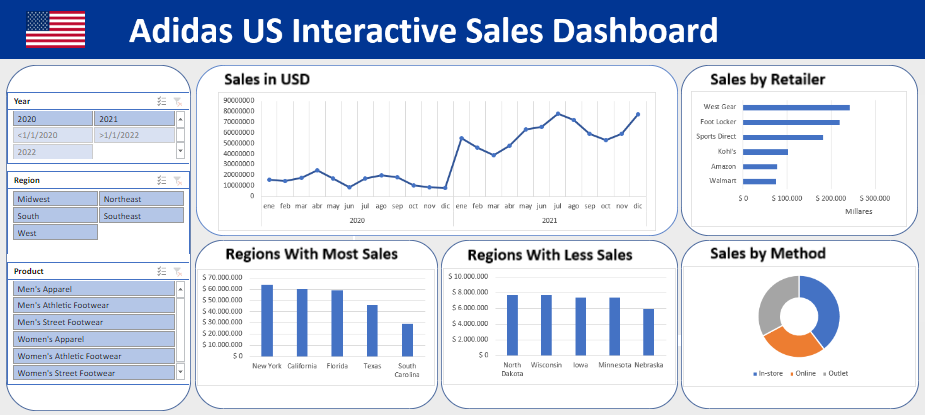

This screenshot's page, from the dashboard's own definition file:
{"tool":"powerbi","page":{"name":"Página 1","canvas":[1280,720],"ordinal":0},"visuals":[{"type":"lineChart","fields":{"Y":["Sum(Data.Total Sales)"],"Category":["Data.Invoice Date.Variación.Jerarquía de fechas.Año","Data.Invoice Date.Variación.Jerarquía de fechas.Mes"]},"box":[189.1,69,690.3,291.1],"z":0},{"type":"treemap","fields":{"Group":["Data.State"],"Values":["Sum(Data.Total Sales)"]},"box":[189.1,391.7,690.3,327.1],"z":1000},{"type":"donutChart","fields":{"Category":["Data.Sales Method"],"Y":["Sum(Data.Total Sales)"]},"box":[879.3,391.7,400.7,327.1],"z":2000},{"type":"barChart","fields":{"Y":["Sum(Data.Total Sales)"],"Category":["Data.Retailer"]},"box":[879.3,69,400.7,291.1],"z":3000},{"type":"slicer","fields":{"Values":["Data.Invoice Date.Variación.Jerarquía de fechas.Año"]},"box":[0,69,189.1,93],"z":4000},{"type":"textbox","box":[0,0,1280,69],"z":5000},{"type":"slicer","fields":{"Values":["Data.Region"]},"box":[0,162.1,189.1,180.1],"z":5001},{"type":"slicer","fields":{"Values":["Data.Product"]},"box":[0,342.1,189.1,213.1],"z":5002}]}

Visuals, with their boxes on the page's 1280x720 design canvas (x1, y1, x2, y2). These are canvas units, not pixel positions in the 925x415 screenshot, which may show the page scaled, cropped or inside an application window:
lineChart - Sum(Data.Total Sales) x Data.Invoice Date.Variación.Jerarquía de fechas.Año: 189,69,879,360
treemap - Data.State x Sum(Data.Total Sales): 189,392,879,719
donutChart - Data.Sales Method x Sum(Data.Total Sales): 879,392,1280,719
barChart - Sum(Data.Total Sales) x Data.Retailer: 879,69,1280,360
slicer - Data.Invoice Date.Variación.Jerarquía de fechas.Año: 0,69,189,162
textbox: 0,0,1280,69
slicer - Data.Region: 0,162,189,342
slicer - Data.Product: 0,342,189,555
